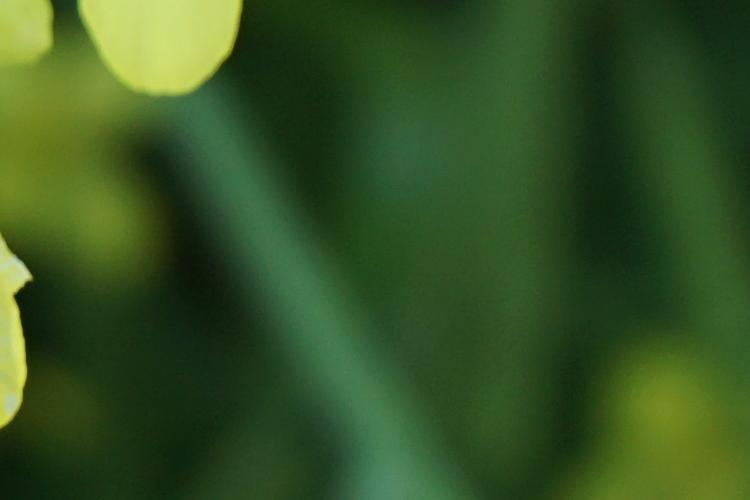yellow: (1, 1, 253, 94)
